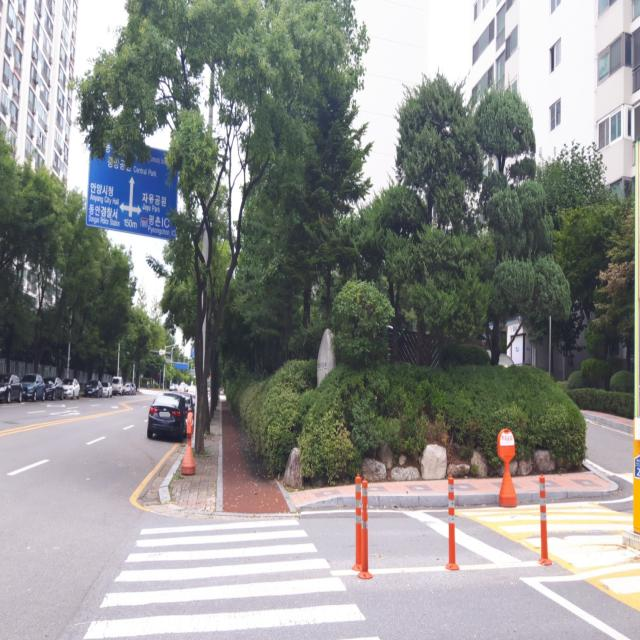횡단보도: (81, 516, 382, 640)
